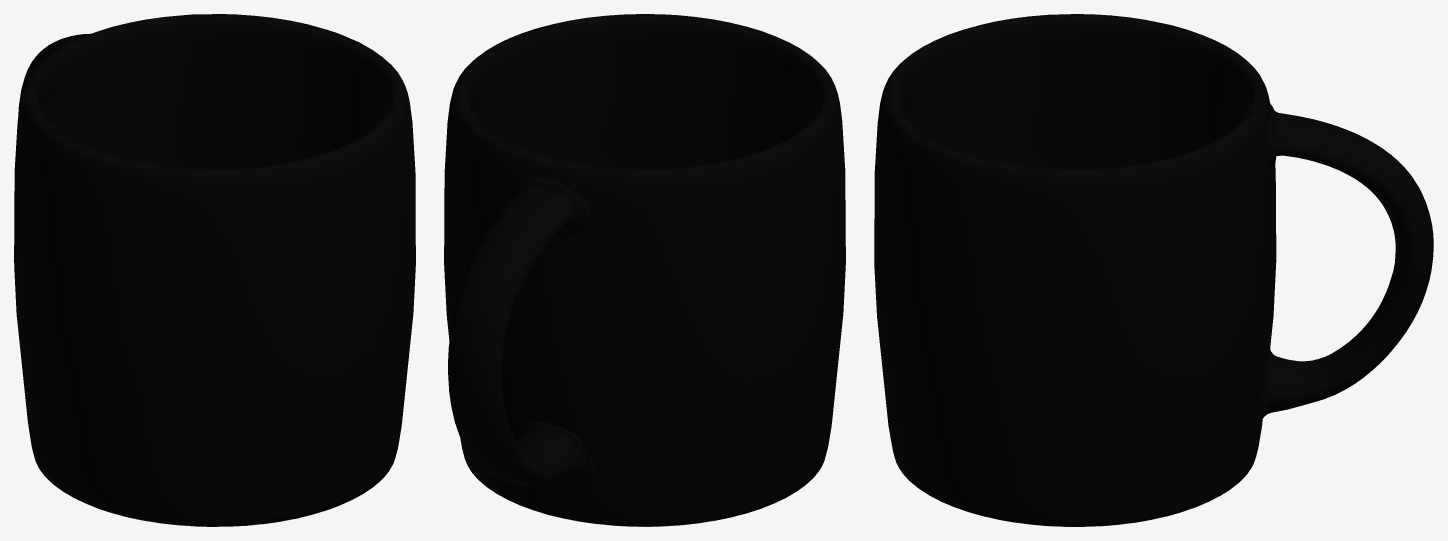
File: black_ceramic_mug.glb
3 renders of one model, left to right at view 1: azimuth 30°, elevation 25°; view 2: azimuth 150°, elevation 25°; view 3: azimuth 270°, elevation 25°, orthographic.
Visible parts, largest first — view 1: mug_outside_0; view 2: mug_outside_0; view 3: mug_outside_0.
Part boxes in pixels (x1,y1,x2,y2): mug_outside_0: (14,14,415,526); mug_outside_0: (444,14,845,526); mug_outside_0: (874,14,1433,526).
Bounding box in the file's own units: 0.2156 × 0.2147 × 0.3.
Materials: 1 (1 with a texture image).
